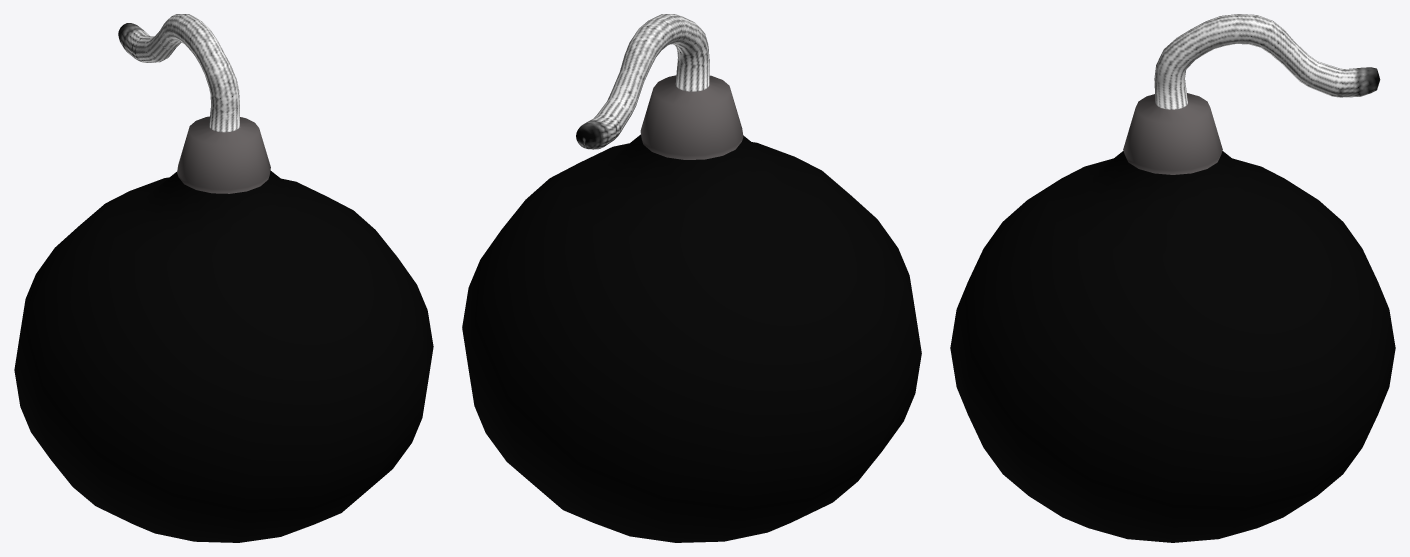
The model's file is black-handbomb.obj.
3 renders of one model, left to right at view 1: azimuth 30°, elevation 25°; view 2: azimuth 150°, elevation 25°; view 3: azimuth 270°, elevation 25°, orthographic. The views are drawn at different scales.
Parts seen in each view (by area): view 1: Regular_Bomb; view 2: Regular_Bomb; view 3: Regular_Bomb.
Part boxes in pixels (left/top/right/bottom): Regular_Bomb: left=14, top=14, right=433, bottom=542; Regular_Bomb: left=462, top=14, right=921, bottom=542; Regular_Bomb: left=950, top=14, right=1395, bottom=542.
Size of the model in its own units: 10.01 by 12.55 by 10.01.
1 material, 1 textured.
